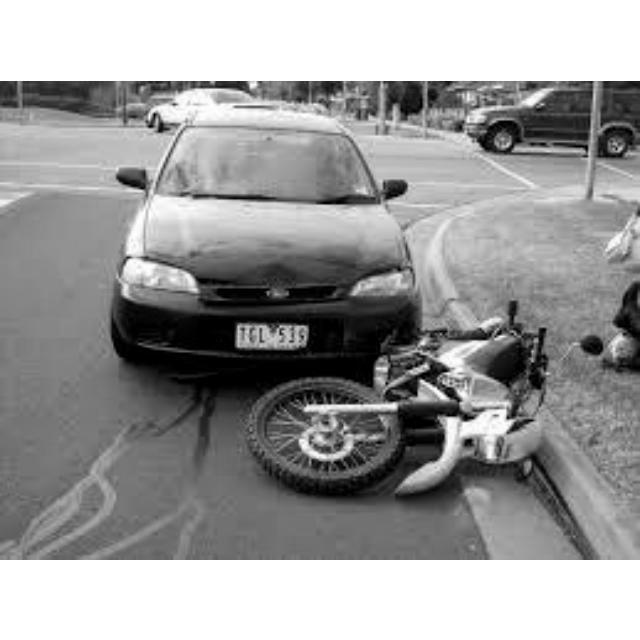bonnet-dent: (188, 195, 380, 288)
